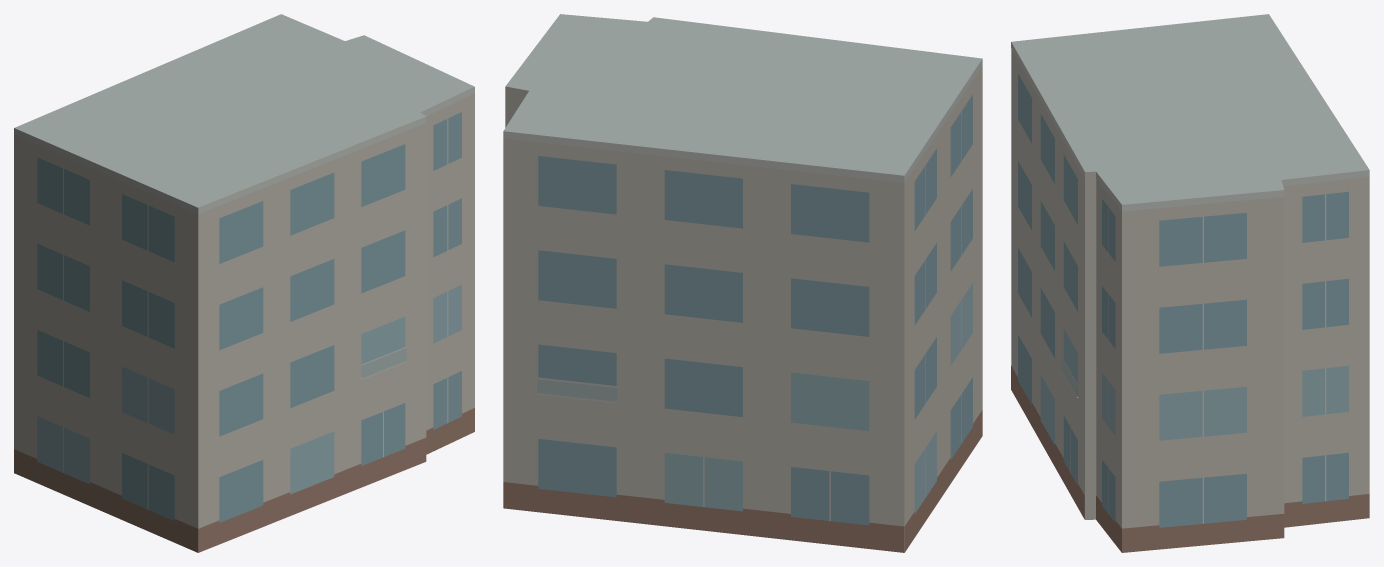
The model's file is survey-upis-32780643.glb.
The picture shows the model from 3 angles, left to right: view 1: azimuth 30°, elevation 25°; view 2: azimuth 150°, elevation 25°; view 3: azimuth 270°, elevation 25°; orthographic projection. The views are drawn at different scales.
Parts seen in each view (by area): view 1: survey-upis-32780643.tmp; view 2: survey-upis-32780643.tmp; view 3: survey-upis-32780643.tmp.
Part boxes in pixels (<box>): survey-upis-32780643.tmp: <box>14,14,474,552</box>; survey-upis-32780643.tmp: <box>503,14,982,552</box>; survey-upis-32780643.tmp: <box>1011,14,1369,552</box>.
Bounding box in the file's own units: 14.95 × 12.7 × 11.87.
